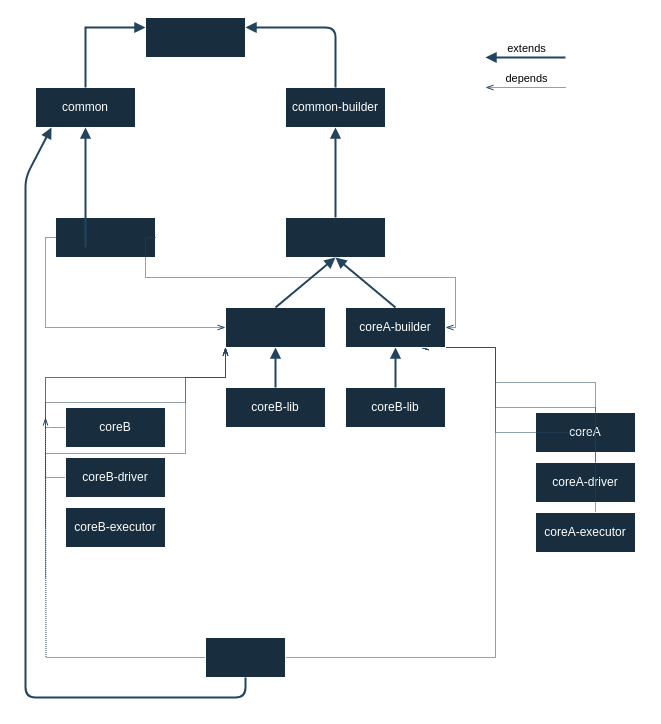
This 661x724 diagram has some shape labels left out. Here are the shapes that lost their labels. From the top down, the centre of each, then its label:
At point (195, 37): "base".
At point (105, 237): "submitter".
At point (335, 237): "builder".
At point (275, 327): "coreB-builder".
At point (245, 657): "full".
